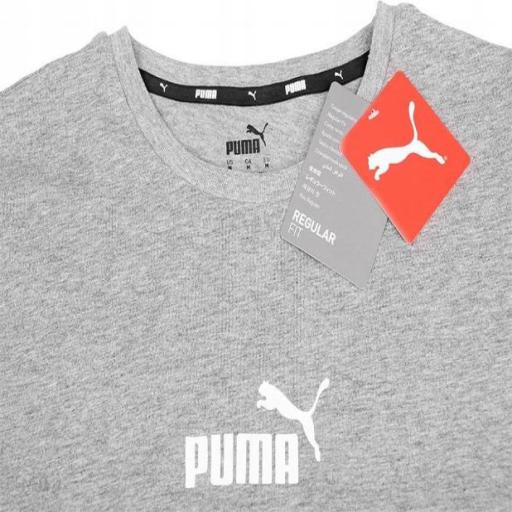Puma: (361, 96, 452, 184), (180, 431, 303, 490), (255, 377, 336, 464), (218, 136, 264, 158), (243, 119, 272, 146), (283, 74, 308, 101), (191, 84, 219, 102), (156, 76, 170, 95), (245, 86, 260, 102), (332, 68, 346, 80)
